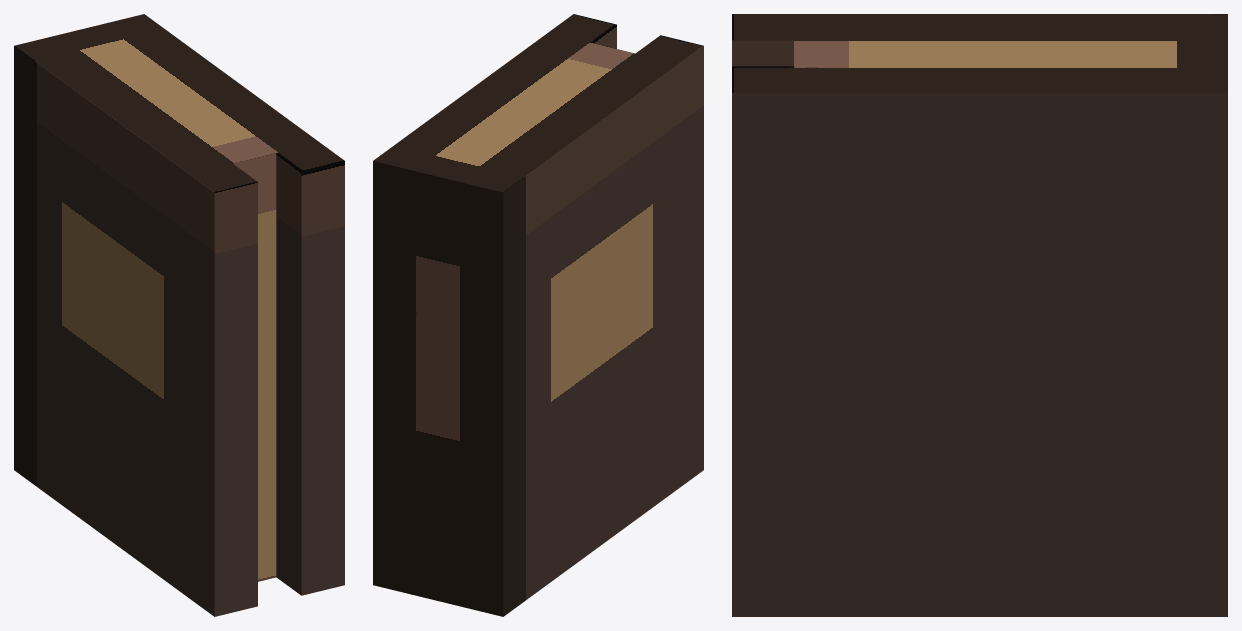
The model's file is book_0x282_23.glb.
3 renders of one model, left to right at view 1: azimuth 30°, elevation 25°; view 2: azimuth 150°, elevation 25°; view 3: azimuth 270°, elevation 25°, orthographic. The views are drawn at different scales.
Visible parts, largest first — view 1: Cube.001; view 2: Cube.001; view 3: Cube.001.
Part boxes in pixels (box(x1,y1,x2,y2)): Cube.001: box(14, 14, 344, 616); Cube.001: box(373, 14, 703, 616); Cube.001: box(732, 14, 1227, 616).
Bounding box in the file's own units: 0.1875 × 0.5833 × 0.5.
Materials: 1 (1 with a texture image).
